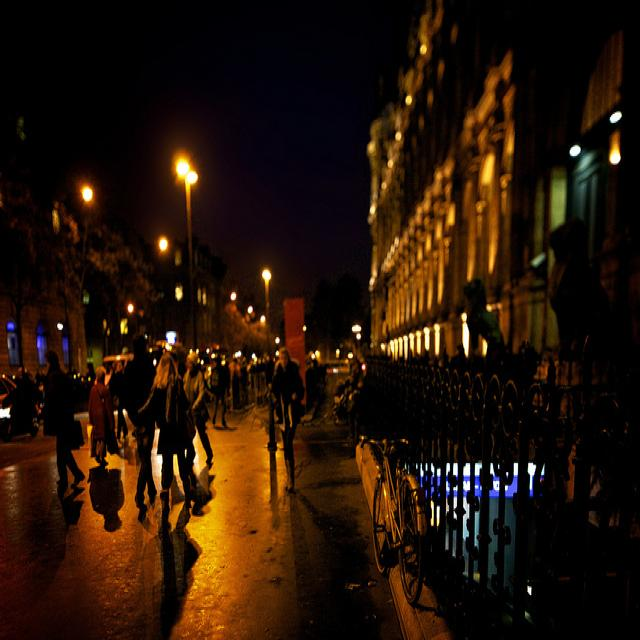Bicycle: (319, 432, 455, 636)
